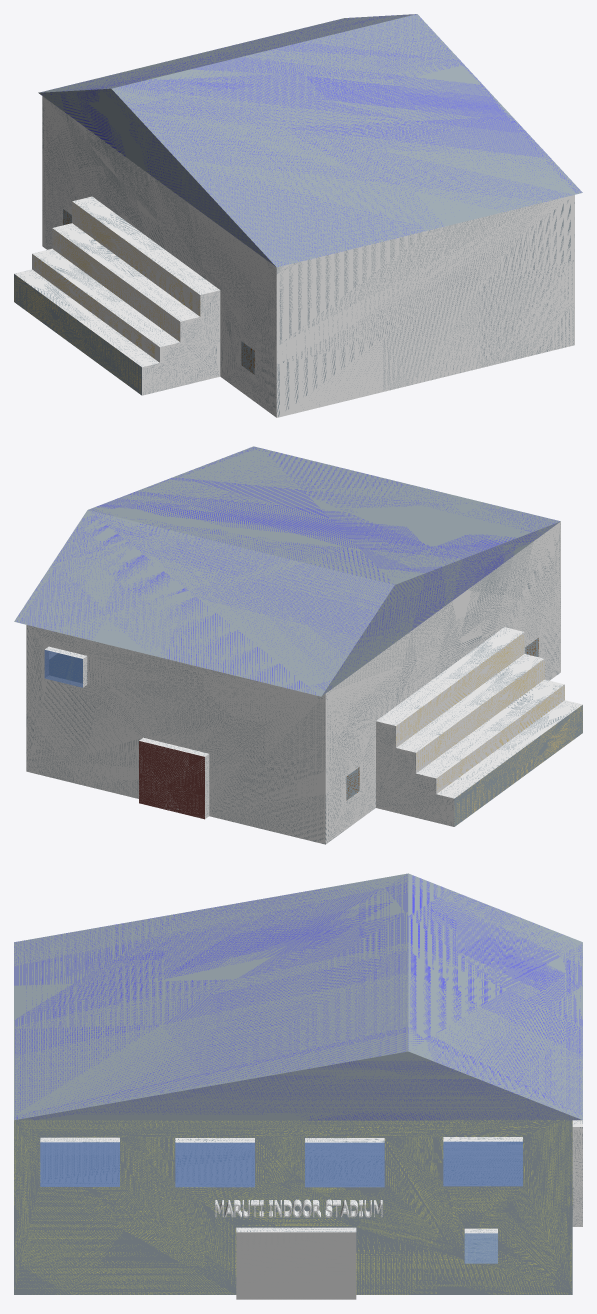
Rendered from MARUTI.fbx.
3 renders of one model, top to bottom at view 1: azimuth 30°, elevation 25°; view 2: azimuth 150°, elevation 25°; view 3: azimuth 270°, elevation 25°, orthographic. The views are drawn at different scales.
Parts seen in each view (by area): view 1: Model; view 2: Model; view 3: Model, MARUTI_INDOOR_ST_1_1.
Boxes of the visible parts, box(x1,y1,x2,y2) form: Model: box(14, 14, 582, 417); Model: box(14, 446, 582, 844); Model: box(14, 873, 582, 1299); MARUTI_INDOOR_ST_1_1: box(215, 1199, 382, 1217).
Bounding box in the file's own units: 2.03e+07 × 1.05e+07 × 2.18e+07.
